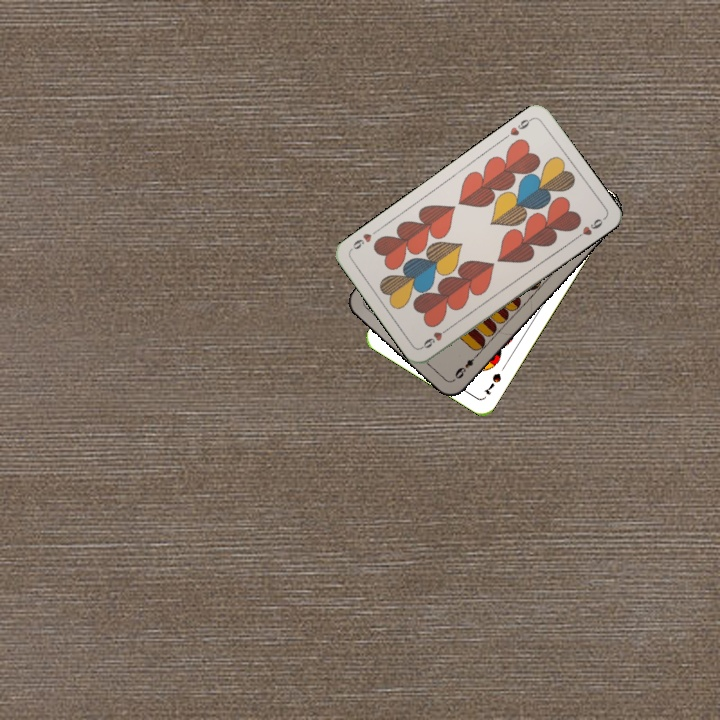E9: (451, 349, 481, 382)
H9: (499, 114, 535, 142), (418, 323, 453, 351)
S7: (479, 369, 504, 397)
